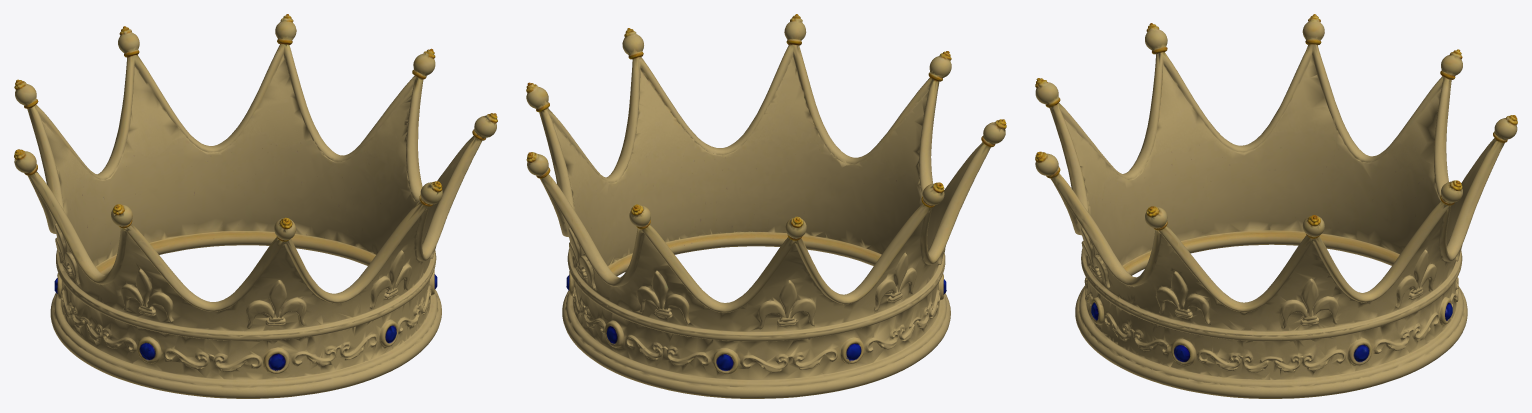
File: king-crown.glb
The picture shows the model from 3 angles, left to right: view 1: azimuth 30°, elevation 25°; view 2: azimuth 150°, elevation 25°; view 3: azimuth 270°, elevation 25°; orthographic projection.
Parts seen in each view (by area): view 1: tripo_node_275e12cf-8877-4de0-a761-cd4eaa64e537; view 2: tripo_node_275e12cf-8877-4de0-a761-cd4eaa64e537; view 3: tripo_node_275e12cf-8877-4de0-a761-cd4eaa64e537.
Part boxes in pixels (x1,y1,x2,y2): tripo_node_275e12cf-8877-4de0-a761-cd4eaa64e537: (14, 14, 497, 398); tripo_node_275e12cf-8877-4de0-a761-cd4eaa64e537: (526, 14, 1006, 398); tripo_node_275e12cf-8877-4de0-a761-cd4eaa64e537: (1035, 14, 1517, 398).
Bounding box in the file's own units: 0.9796 × 0.4548 × 0.9772.
1 material, 1 textured.
